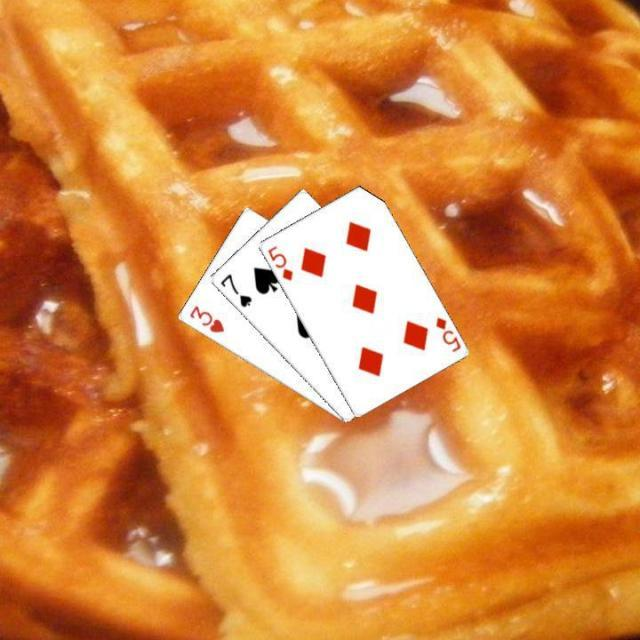3H: (185, 302, 226, 335)
5D: (263, 242, 294, 283), (431, 313, 462, 354)
7S: (216, 271, 254, 310)
